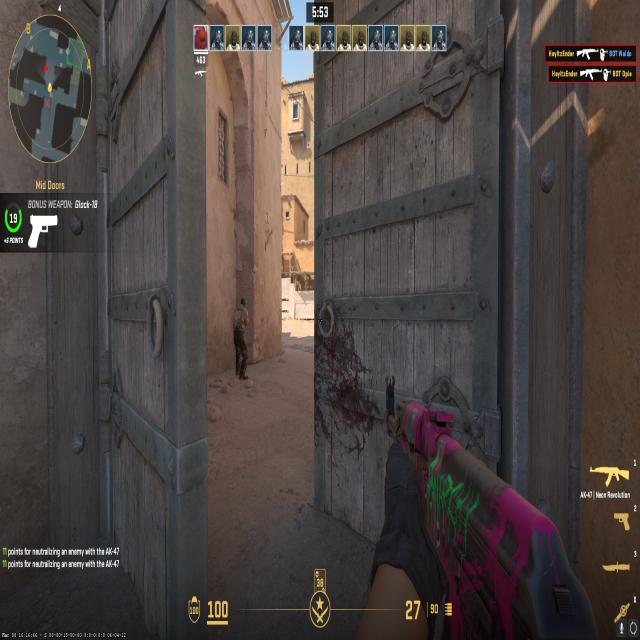t: (224, 288, 258, 382)
